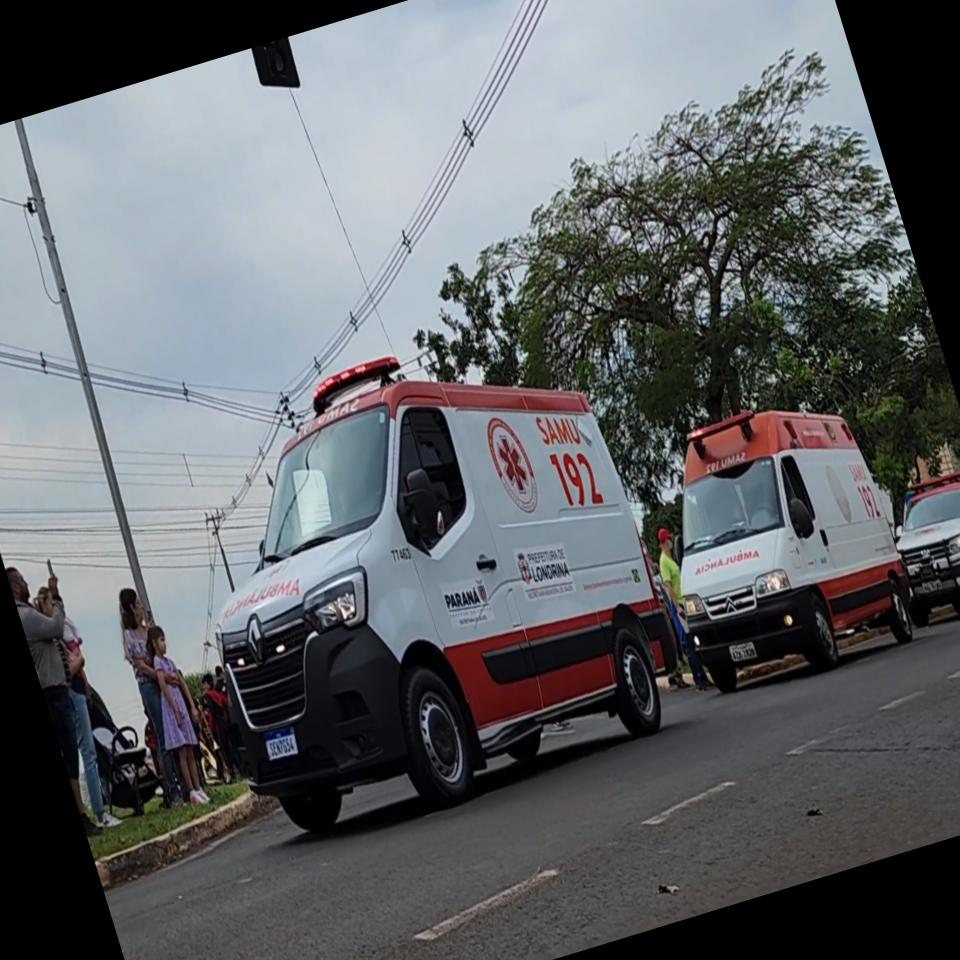bombeiro: (135, 296, 704, 864)
